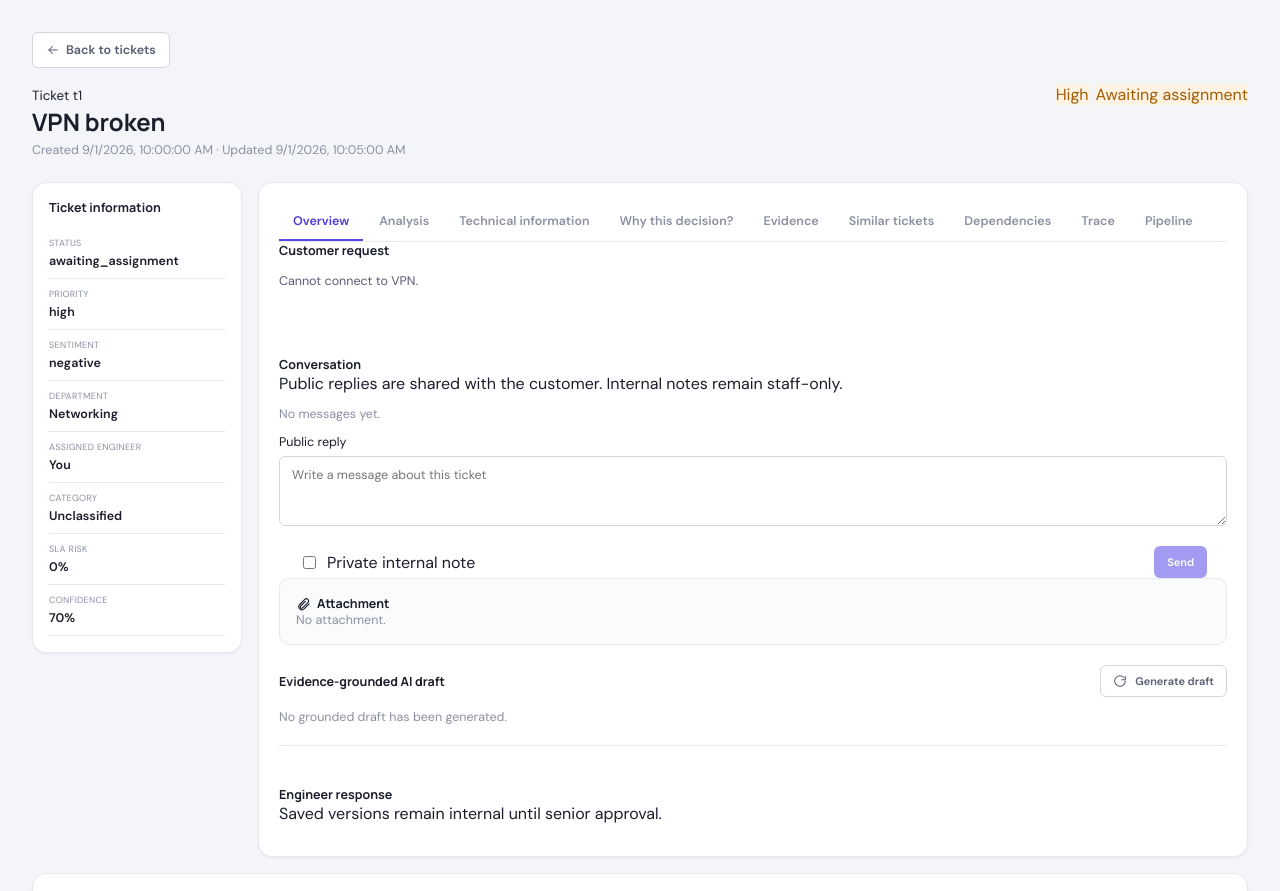
Test: engineer response workflow › shows why-human-review and missing-evidence cards from a real counterfactual explanation
Click the tab "Why this decision?" at point(676, 222), box [606,203,747,241]
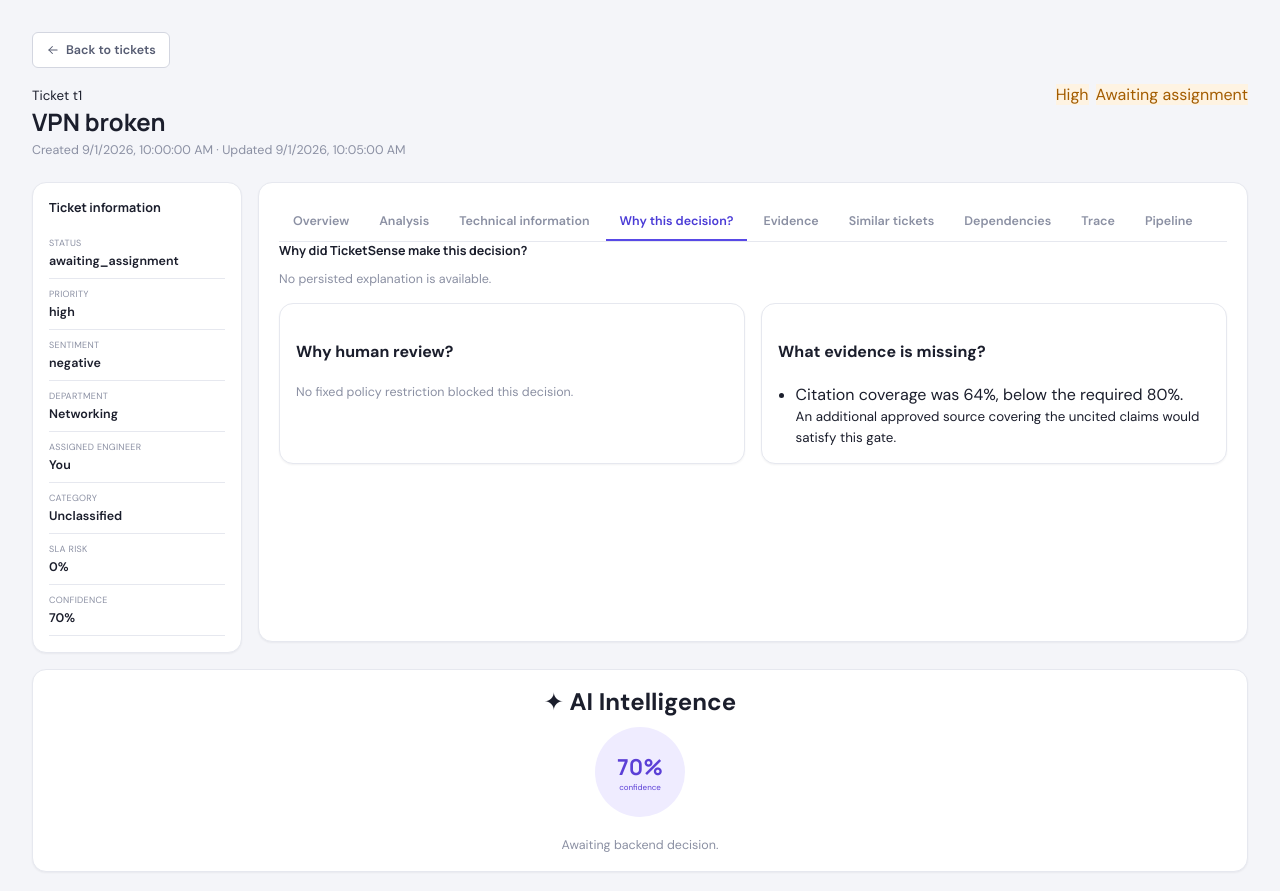
expect the heading "Why human review?" is shown: met, box [296,341,453,362]
expect the heading "What evidence is missing?" is shown: met, box [778,341,986,362]
expect the list item "Citation coverage was 64%" is shown: met, box [796,384,1183,404]
